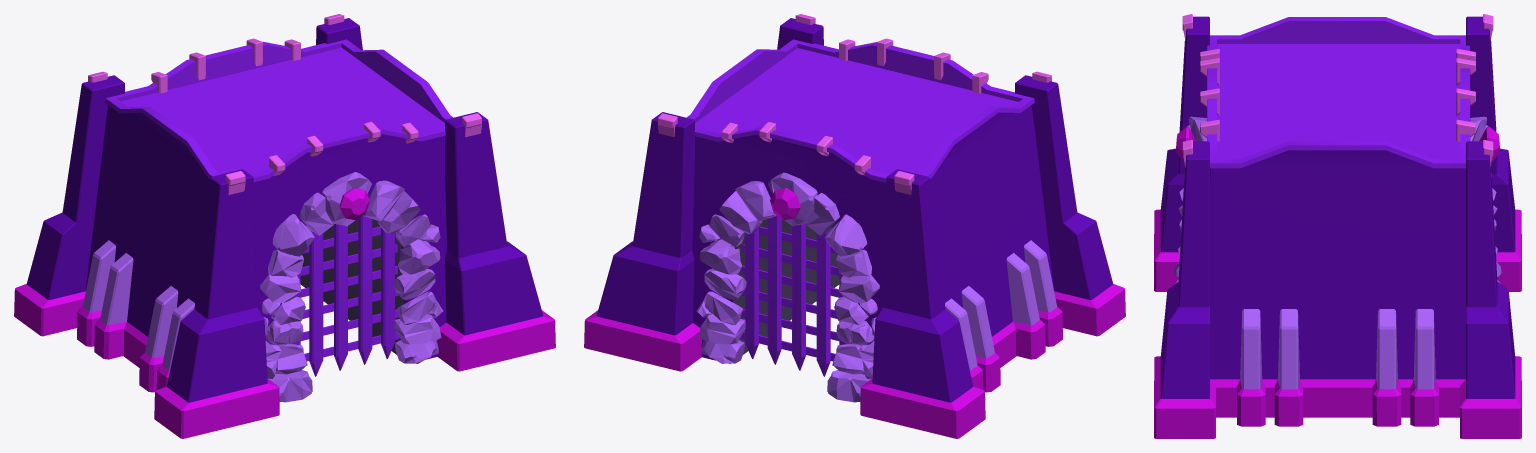
The model's file is Gates.fbx.
3 views of the same model, side by side, from view 1: azimuth 30°, elevation 25°; view 2: azimuth 150°, elevation 25°; view 3: azimuth 270°, elevation 25° (orthographic). The views are drawn at different scales.
Visible parts, largest first — view 1: Gate_LOD0; view 2: Gate_LOD0; view 3: Gate_LOD0.
Part boxes in pixels (x1,y1,x2,y2): Gate_LOD0: (14,14,555,438); Gate_LOD0: (584,14,1125,438); Gate_LOD0: (1154,14,1521,438).
Size of what is drawn, in the model's own units: 2772 by 1719 by 2159.
